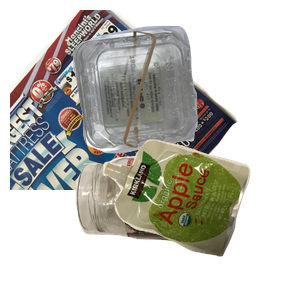glass: (73, 153, 284, 300)
paper: (10, 10, 240, 190)
plastic: (71, 23, 300, 169)
trash: (100, 137, 300, 300)
